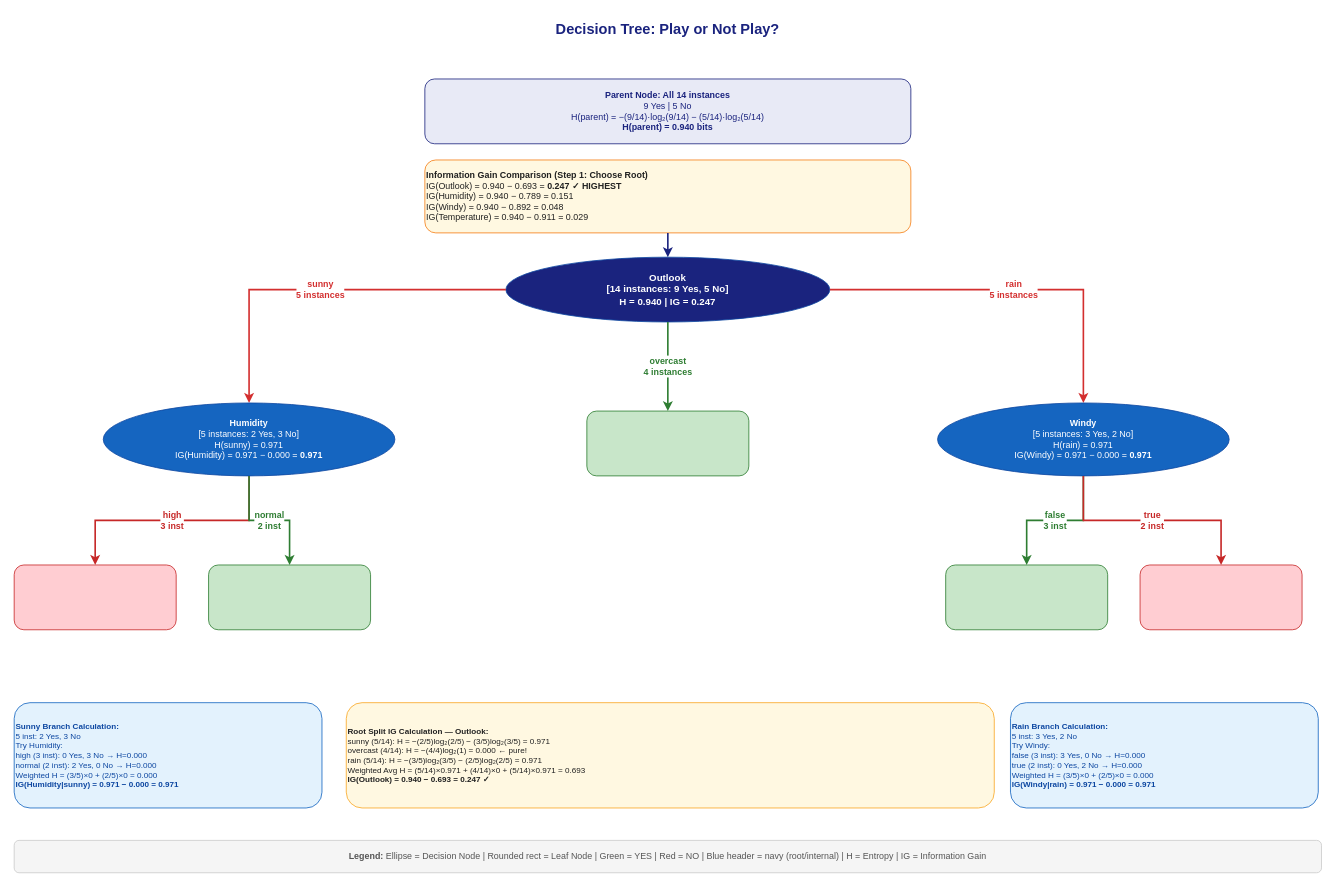
Image size: 1336x887. Some labels were removed from this diagram. The shapes that lost their labels are listed below. From the top down, each one's centre as x and y in pixels, then its label:
At (x=667, y=443): "YES [4 instances] 4 Yes, 0 No H = 0.000 (pure)".
At (x=94, y=597): "NO [3 instances] 3 No, 0 Yes H = 0.000 (pure)".
At (x=289, y=597): "YES [2 instances] 2 Yes, 0 No H = 0.000 (pure)".
At (x=1026, y=597): "YES [3 instances] 3 Yes, 0 No H = 0.000 (pure)".
At (x=1220, y=597): "NO [2 instances] 2 No, 0 Yes H = 0.000 (pure)".
